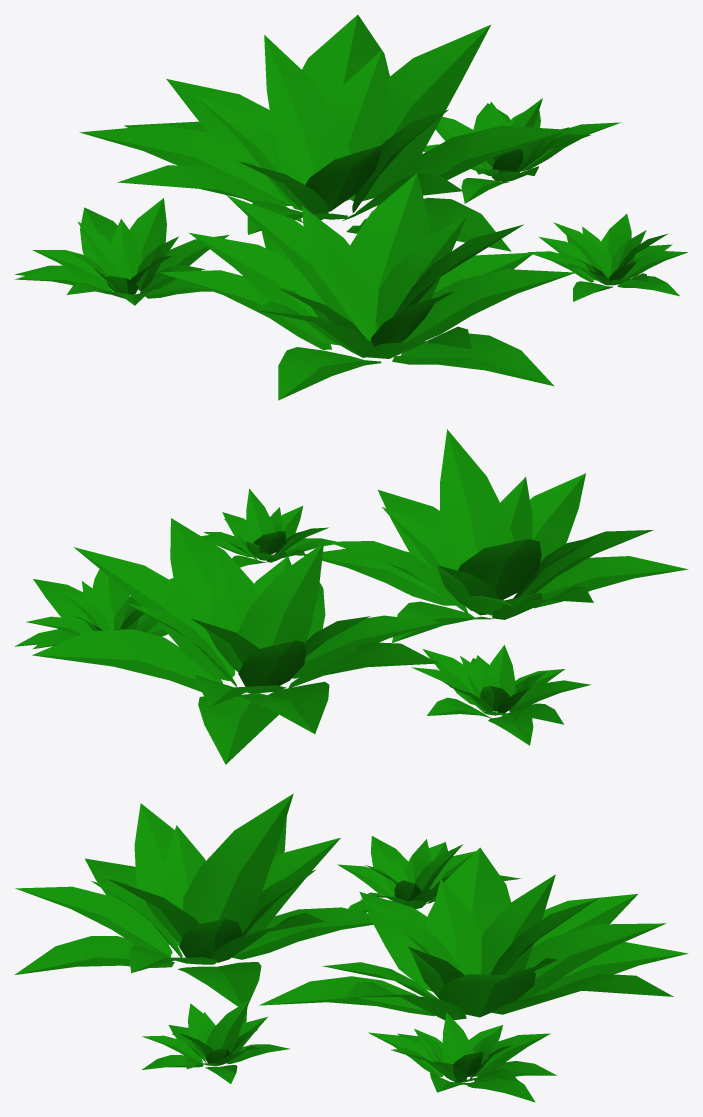
Rendered from SM_Bush_002_LOD2.fbx.
The picture shows the model from 3 angles, top to bottom: view 1: azimuth 30°, elevation 25°; view 2: azimuth 150°, elevation 25°; view 3: azimuth 270°, elevation 25°; orthographic projection. The views are drawn at different scales.
Parts seen in each view (by area): view 1: Bush_02; view 2: Bush_02; view 3: Bush_02.
Boxes of the visible parts, bbox=[...] form: Bush_02: bbox=[14, 15, 687, 400]; Bush_02: bbox=[14, 429, 688, 764]; Bush_02: bbox=[14, 793, 688, 1102].
Size of the model in its own units: 719 by 161 by 780.
